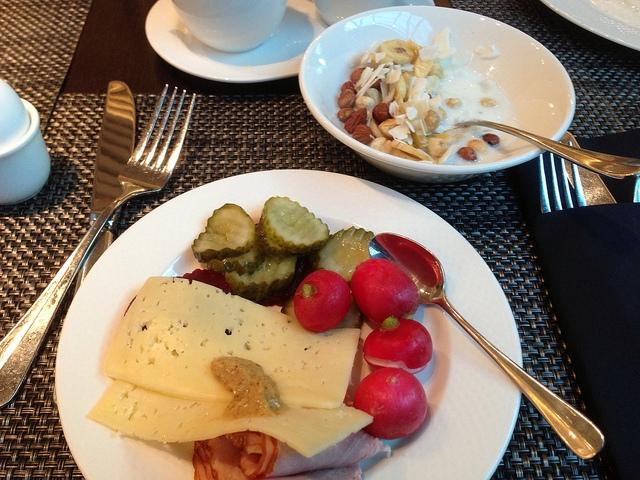radish: (353, 367, 428, 440), (350, 258, 420, 325), (363, 316, 433, 374), (294, 270, 352, 332)
